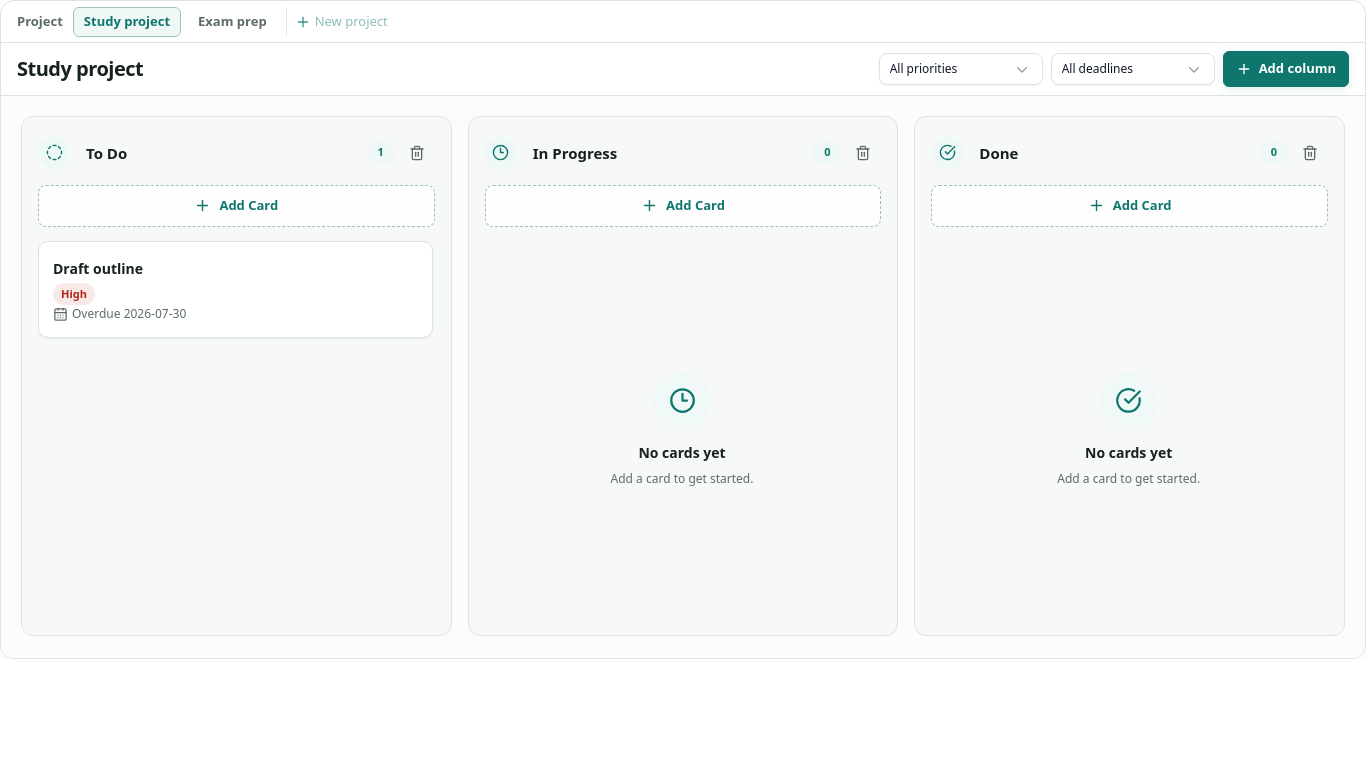
Test: ProjectPage project workspace › uses the selected project as the visible heading
Expected: the heading "Study project" is shown, left=17, top=54, right=143, bottom=84
Step 1. Click the button "Exam prep" → (232, 22), box left=187, top=6, right=278, bottom=36
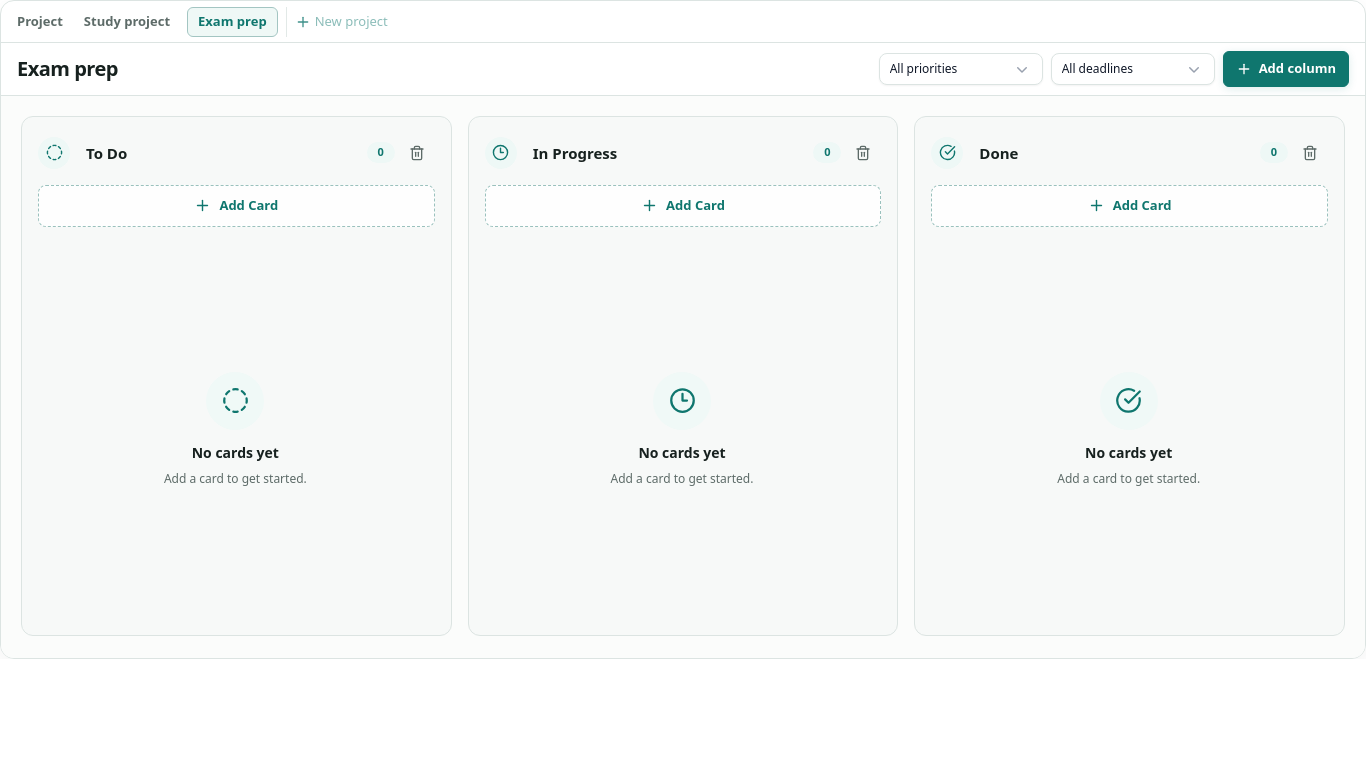
Expected: the heading "Exam prep" is shown, left=17, top=54, right=118, bottom=84
